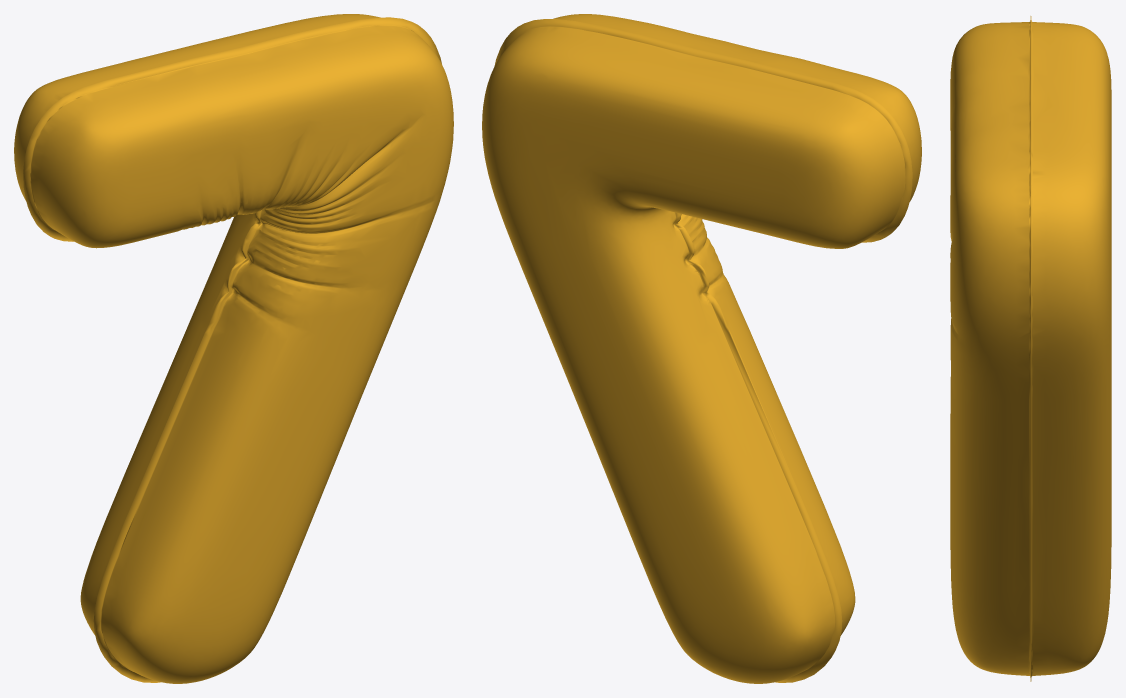
The model's file is zahlen-gold-nr7-gruppe.glb.
3 renders of one model, left to right at view 1: azimuth 30°, elevation 25°; view 2: azimuth 150°, elevation 25°; view 3: azimuth 270°, elevation 25°, orthographic.
Parts seen in each view (by area): view 1: nr7; view 2: nr7; view 3: nr7.
Part boxes in pixels (left/top/right/bottom): nr7: left=14, top=14, right=453, bottom=683; nr7: left=482, top=14, right=921, bottom=683; nr7: left=950, top=16, right=1111, bottom=681.
Bounding box in the file's own units: 0.4514 × 0.6296 × 0.1499.
